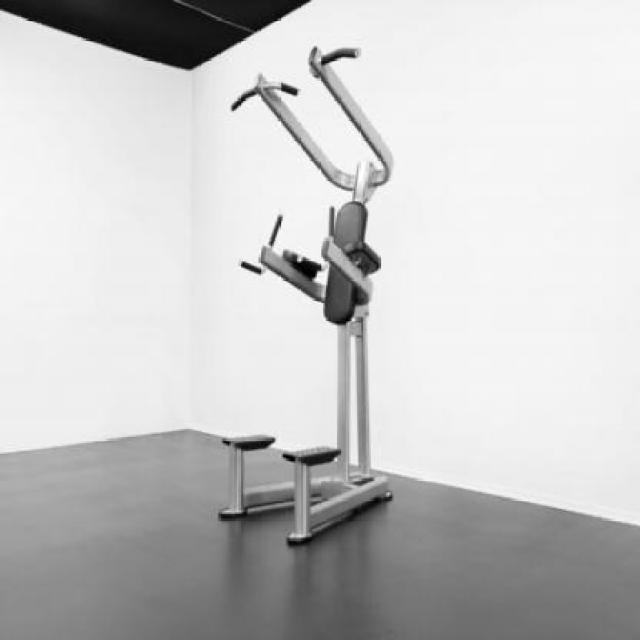chinning dipping: (218, 46, 397, 548)
